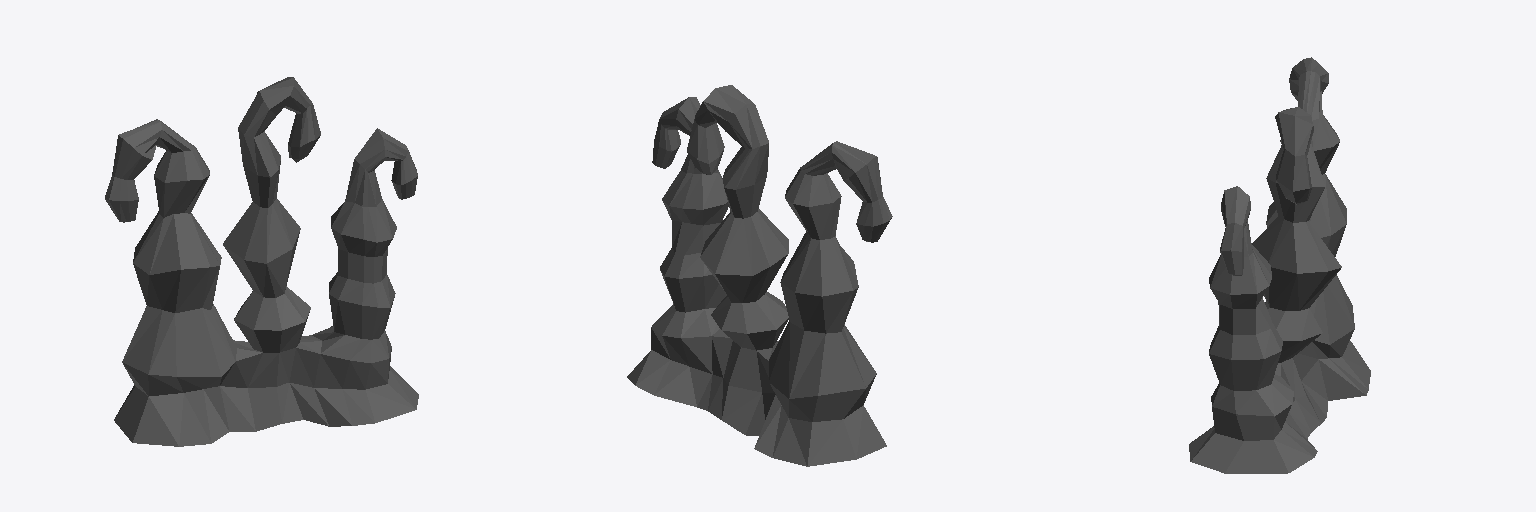
Rendered from plantCurvy.obj.
3 views of the same model, side by side, from view 1: azimuth 30°, elevation 25°; view 2: azimuth 150°, elevation 25°; view 3: azimuth 270°, elevation 25° (orthographic).
Visible parts, largest first — view 1: branch1; view 2: branch1; view 3: branch1.
Boxes of the visible parts, x1,y1,x2,y2 form: branch1: [105, 77, 418, 446]; branch1: [627, 85, 892, 466]; branch1: [1189, 57, 1370, 473].
Bounding box in the file's own units: 26.04 × 29.54 × 15.07.